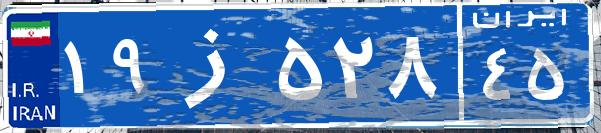1: (57, 26, 110, 107)
2: (330, 28, 385, 110)
4: (475, 38, 525, 113)
5: (273, 28, 330, 110), (525, 38, 570, 115)
8: (385, 28, 445, 110)
9: (110, 28, 158, 105)
ز: (158, 15, 273, 115)
